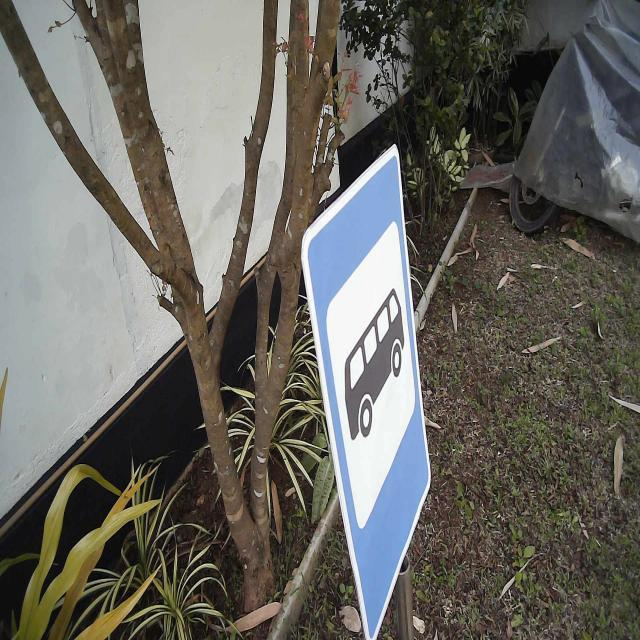bus_stop: (300, 141, 432, 640)
